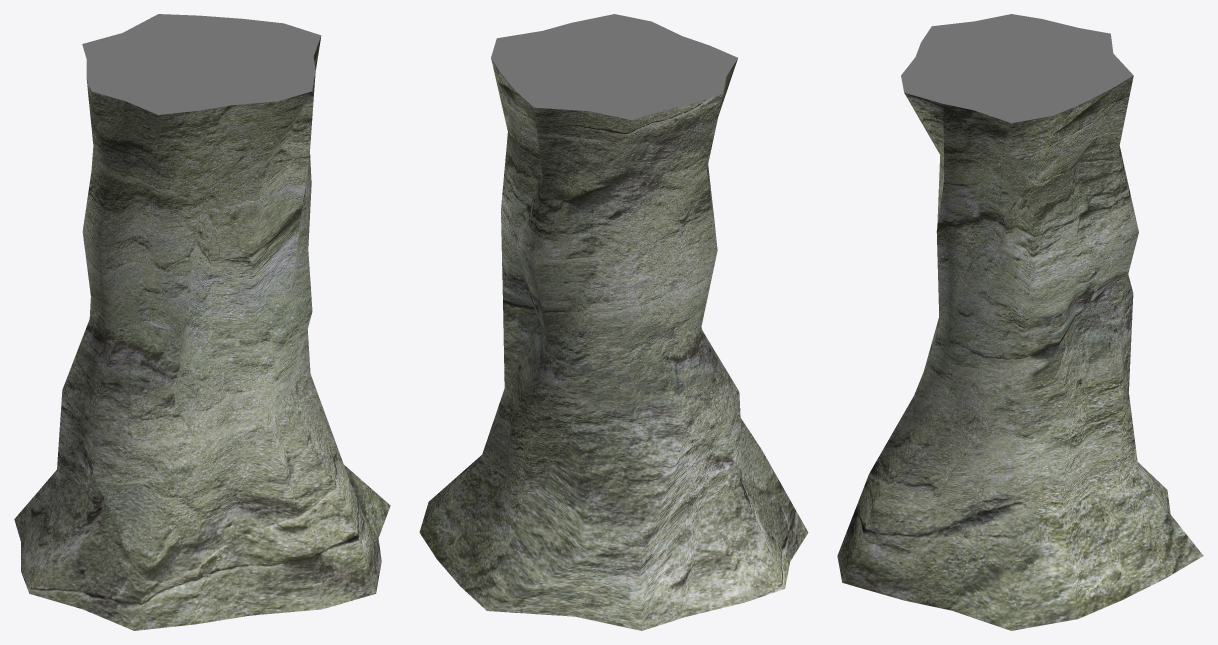
Rendered from RockPillar.FBX.
3 renders of one model, left to right at view 1: azimuth 30°, elevation 25°; view 2: azimuth 150°, elevation 25°; view 3: azimuth 270°, elevation 25°, orthographic. The views are drawn at different scales.
Parts seen in each view (by area): view 1: Cylinder001; view 2: Cylinder001; view 3: Cylinder001.
Part boxes in pixels (x1,y1,x2,y2): Cylinder001: [14, 14, 390, 630]; Cylinder001: [419, 14, 808, 630]; Cylinder001: [837, 14, 1203, 630].
Size of the model in its own units: 233 by 300 by 210.
